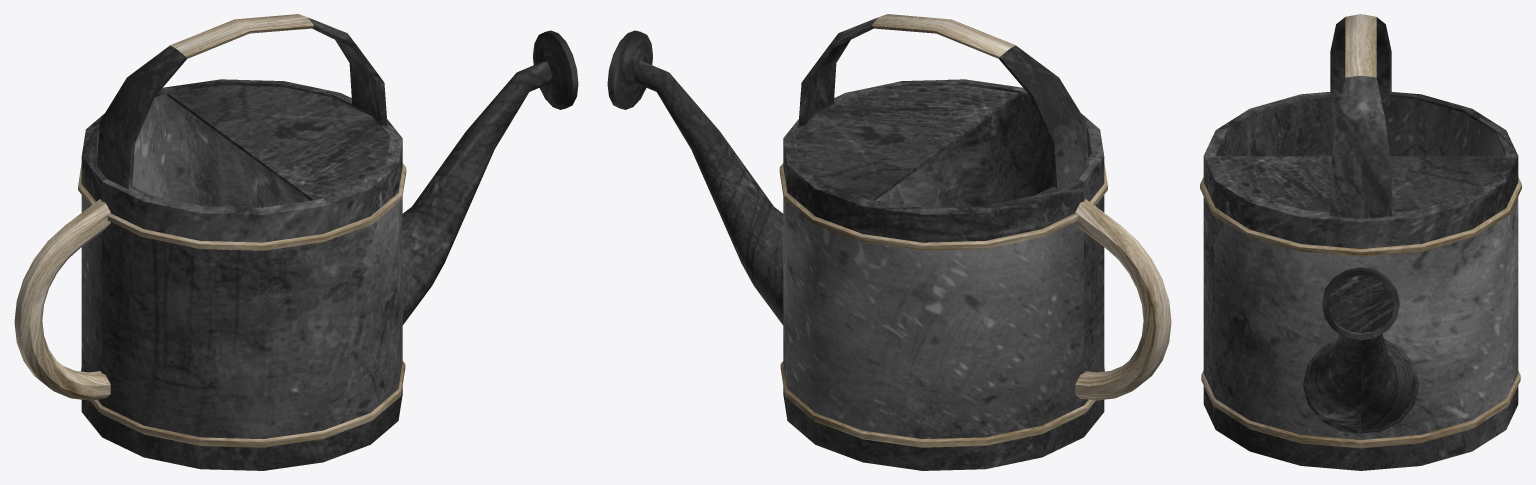
Rendered from Watering can.fbx.
3 renders of one model, left to right at view 1: azimuth 30°, elevation 25°; view 2: azimuth 150°, elevation 25°; view 3: azimuth 270°, elevation 25°, orthographic. The views are drawn at different scales.
Parts seen in each view (by area): view 1: Circle; view 2: Circle; view 3: Circle.
Part boxes in pixels (x1,y1,x2,y2): Circle: (14, 14, 578, 470); Circle: (607, 14, 1171, 470); Circle: (1200, 14, 1521, 470).
Bounding box in the file's own units: 386 × 259 × 205.
